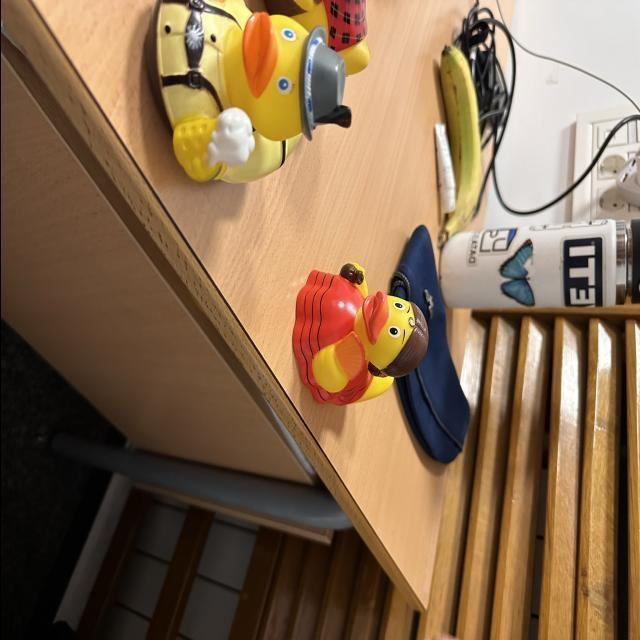rubber-duck: (153, 0, 356, 181), (292, 262, 426, 403)
